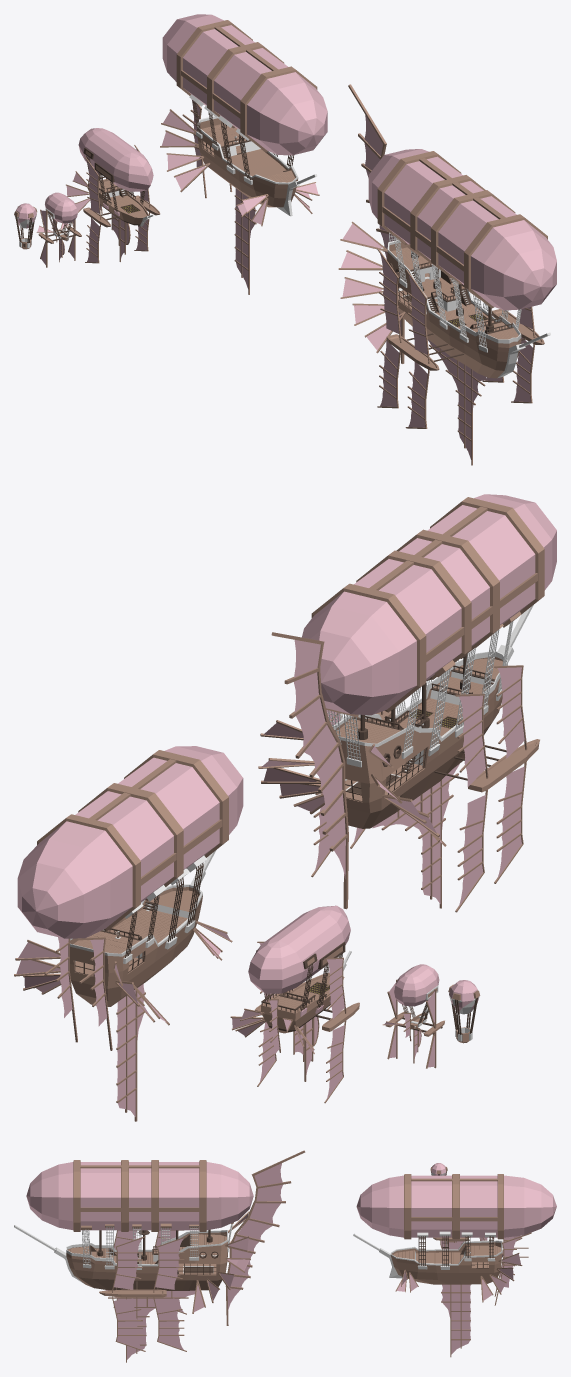
Rendered from Airships.fbx.
3 renders of one model, top to bottom at view 1: azimuth 30°, elevation 25°; view 2: azimuth 150°, elevation 25°; view 3: azimuth 270°, elevation 25°, orthographic. The views are drawn at different scales.
Visible parts, largest first — view 1: Huge Balloon, Large Balloon, Huge Boat, Outrigger Sail Large, Large Boat, Balloon 2, Huge Sails, Large Sails, Huge Underside FIn, Huge Rigging, Outrigger Sail Med, Huge Tail FIn (+5 smaller); view 2: Huge Balloon, Large Balloon, Huge Boat, Outrigger Sail Large, Large Boat, Huge Tail FIn, Balloon 2, Huge Sails, Huge Rigging, Huge Underside FIn, Large Sails, Large Underside Fin (+10 smaller); view 3: Huge Balloon, Large Balloon, Huge Boat, Outrigger Sail Large, Large Boat, Huge Tail FIn, Large Underside Fin, Huge Sails, Huge Underside FIn, Huge Rigging, Large Sails, Large Rigging (+2 smaller).
Boxes of the visible parts, x1,y1,x2,y2 form: Huge Balloon: (368, 149, 556, 310); Large Balloon: (162, 14, 327, 155); Huge Boat: (387, 240, 550, 378); Outrigger Sail Large: (377, 248, 535, 428); Large Boat: (196, 116, 317, 216); Balloon 2: (78, 128, 153, 191); Huge Sails: (338, 221, 405, 353); Large Sails: (160, 109, 319, 226); Huge Underside FIn: (427, 339, 485, 465); Huge Rigging: (389, 232, 521, 347); Outrigger Sail Med: (85, 145, 150, 263); Huge Tail FIn: (348, 84, 404, 363); Huge Balloon: (302, 494, 556, 716); Large Balloon: (17, 746, 243, 938); Huge Boat: (332, 605, 533, 828); Outrigger Sail Large: (311, 665, 527, 912); Large Boat: (70, 850, 216, 1006); Huge Tail FIn: (271, 632, 348, 909); Balloon 2: (248, 905, 350, 993); Huge Sails: (258, 720, 446, 846); Huge Rigging: (327, 621, 513, 761); Huge Underside FIn: (372, 764, 459, 908); Large Sails: (14, 921, 232, 1025); Large Underside Fin: (116, 984, 145, 1121); Huge Balloon: (26, 1160, 253, 1231); Large Balloon: (356, 1174, 556, 1239); Huge Boat: (14, 1225, 228, 1290); Outrigger Sail Large: (112, 1230, 186, 1351); Large Boat: (353, 1234, 502, 1284); Huge Tail FIn: (225, 1150, 305, 1325); Large Underside Fin: (441, 1284, 470, 1357); Huge Sails: (192, 1211, 250, 1313); Huge Underside FIn: (105, 1290, 195, 1362); Huge Rigging: (82, 1224, 232, 1265); Large Sails: (395, 1236, 522, 1302); Large Rigging: (418, 1235, 493, 1266).
Size of the model in its own units: 4308 by 3962 by 9206.
